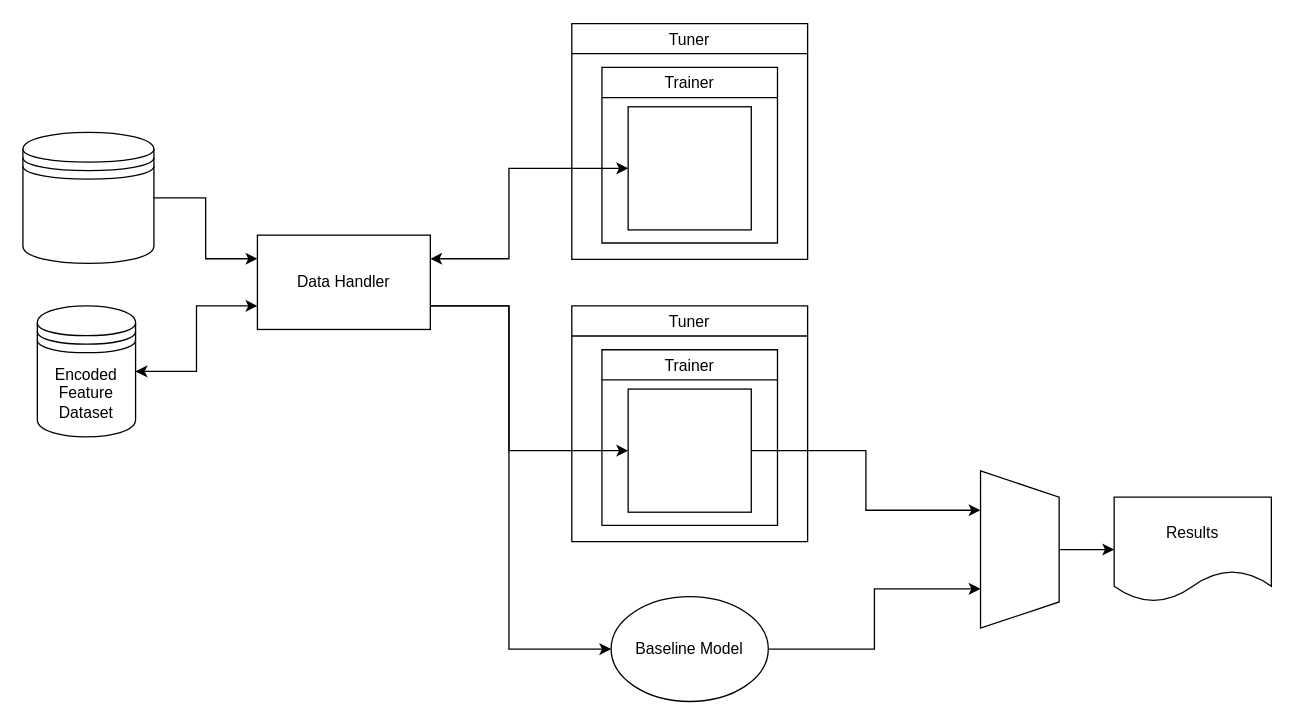
Some shapes in this 1294 by 724 pixel diagram are drawn without their labels. The box of each missing label's shape, as (x1, y1, x2, y2) in pixels:
Autoencoder: (627, 105, 751, 230)
Evaluation: (979, 470, 1059, 628)
Original Dataset: (22, 131, 154, 263)
RNN: (627, 388, 751, 512)
